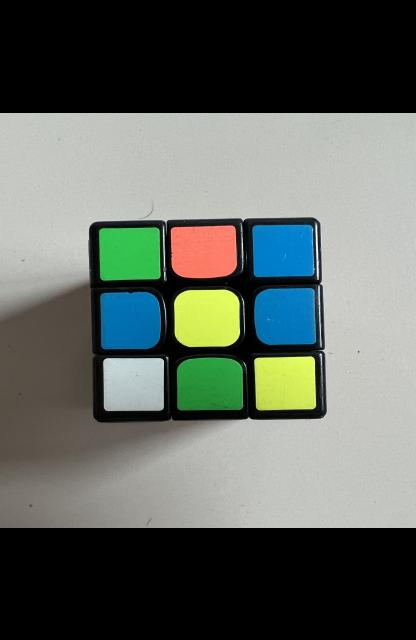Blue: (254, 288, 317, 344), (100, 291, 160, 348), (253, 224, 314, 277)
Green: (177, 357, 243, 410), (99, 227, 160, 280)
Orange: (170, 225, 237, 278)
White: (103, 357, 164, 410)
Yellow: (174, 289, 240, 346), (254, 356, 317, 410)
